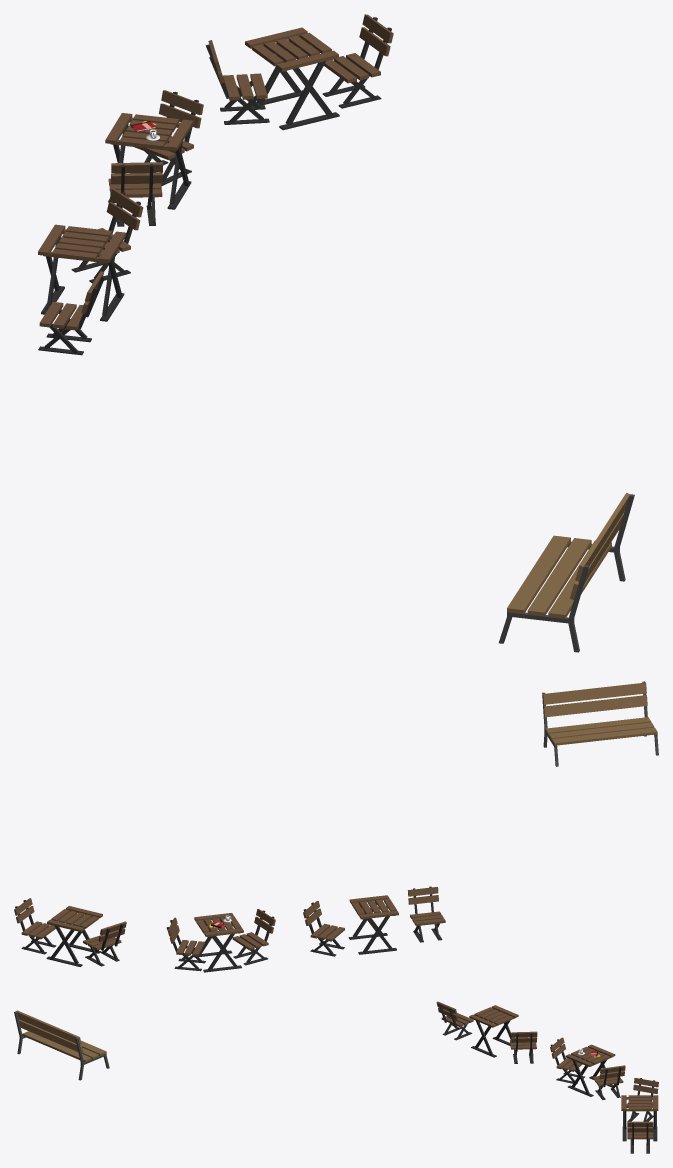
3 views of the same model, one above another, from view 1: azimuth 30°, elevation 25°; view 2: azimuth 150°, elevation 25°; view 3: azimuth 270°, elevation 25° (orthographic). The views are drawn at different scales.
Visible parts, largest first — view 1: D-Room Deko Arcade O; view 2: D-Room Deko Arcade O; view 3: D-Room Deko Arcade O.
Part boxes in pixels (x1=…): D-Room Deko Arcade O: x1=38, y1=14, x2=634, y2=652; D-Room Deko Arcade O: x1=14, y1=681, x2=658, y2=972; D-Room Deko Arcade O: x1=14, y1=1001, x2=658, y2=1153.
Bounding box in the file's own units: 8.23 × 1.29 × 17.36.
4 materials, 2 textured.
